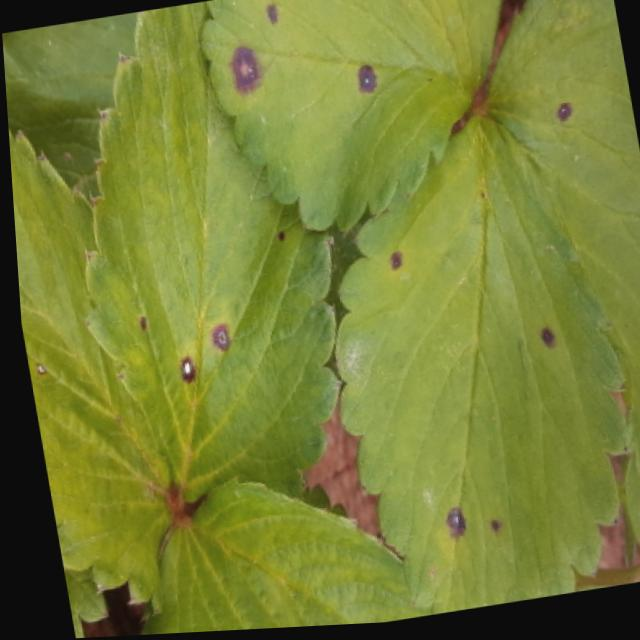Leaf Spot: (327, 112, 620, 618), (75, 3, 336, 502), (7, 125, 176, 606), (486, 0, 640, 489), (197, 0, 501, 241), (130, 475, 422, 636)
